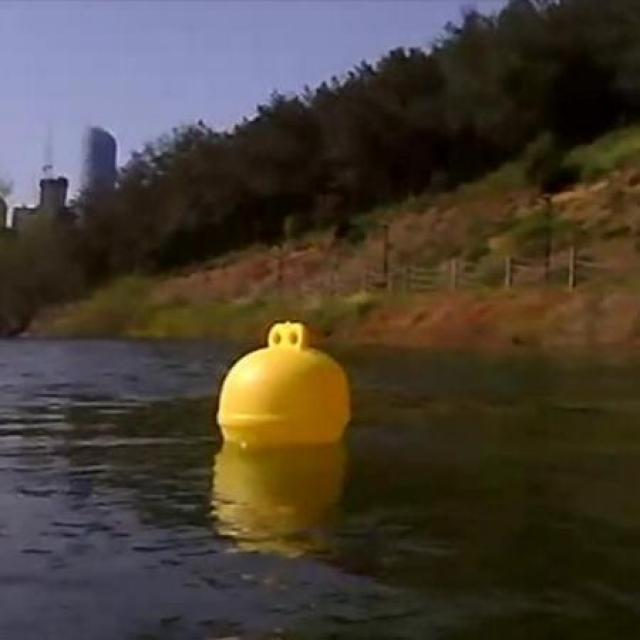buoy: (220, 322, 352, 449)
